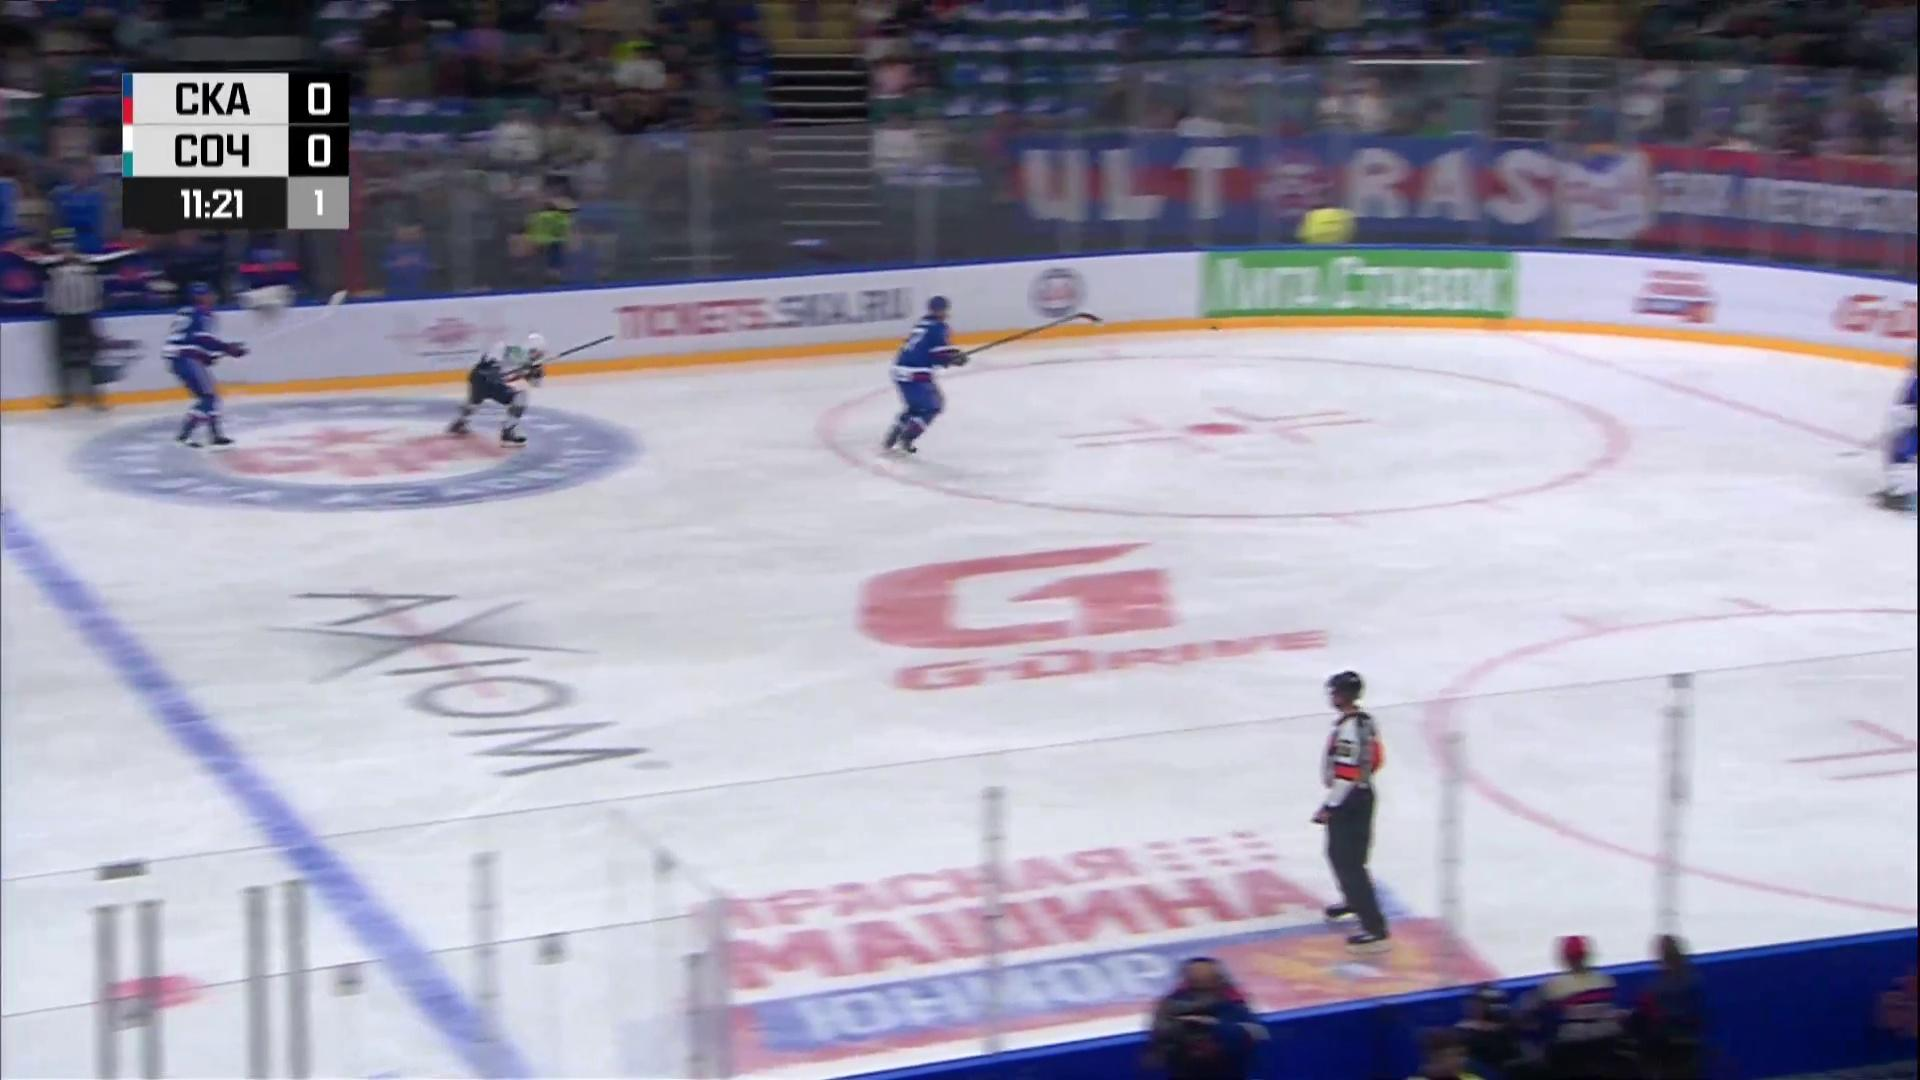ball: (1211, 326, 1221, 331)
